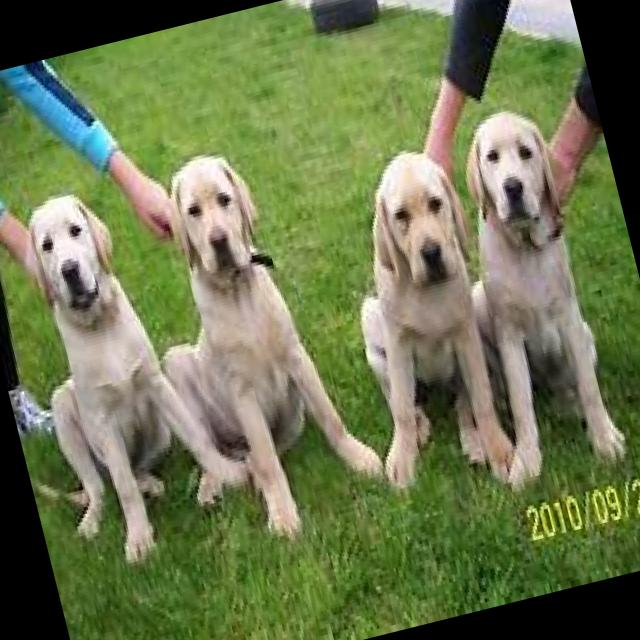animal: (110, 127, 394, 558), (0, 161, 264, 577), (420, 99, 630, 492), (310, 137, 528, 510)
